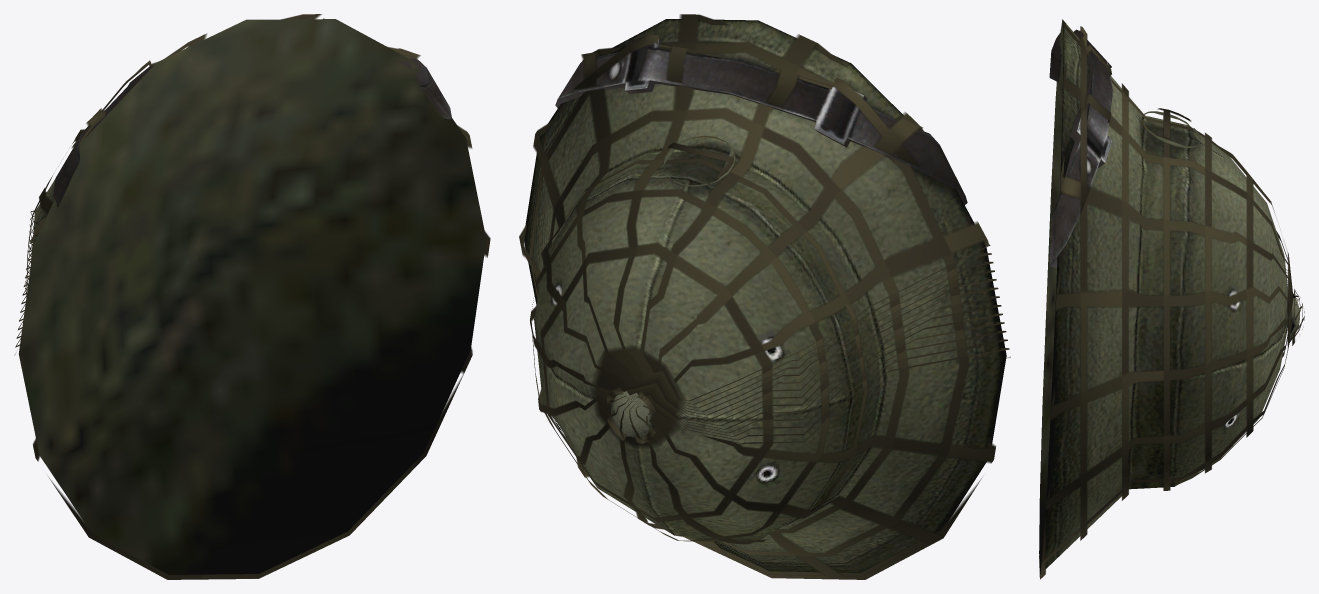
File: pith_net.glb
The picture shows the model from 3 angles, left to right: view 1: azimuth 30°, elevation 25°; view 2: azimuth 150°, elevation 25°; view 3: azimuth 270°, elevation 25°; orthographic projection. The views are drawn at different scales.
Visible parts, largest first — view 1: pith_net, pith_net_scrim; view 2: pith_net, pith_net_scrim; view 3: pith_net, pith_net_scrim.
Part boxes in pixels (x1=…): pith_net: x1=18, y1=19, x2=486, y2=574; pith_net_scrim: x1=14, y1=14, x2=490, y2=579; pith_net: x1=524, y1=19, x2=1006, y2=572; pith_net_scrim: x1=519, y1=14, x2=1010, y2=579; pith_net: x1=1039, y1=19, x2=1299, y2=574; pith_net_scrim: x1=1039, y1=22, x2=1304, y2=579.
Bounding box in the file's own units: 0.2836 × 0.3155 × 0.1458.
Materials: 2 (2 with a texture image).
